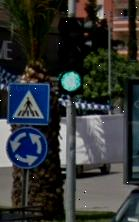crossroads: (8, 128, 46, 166)
greenlight: (57, 15, 83, 96)
